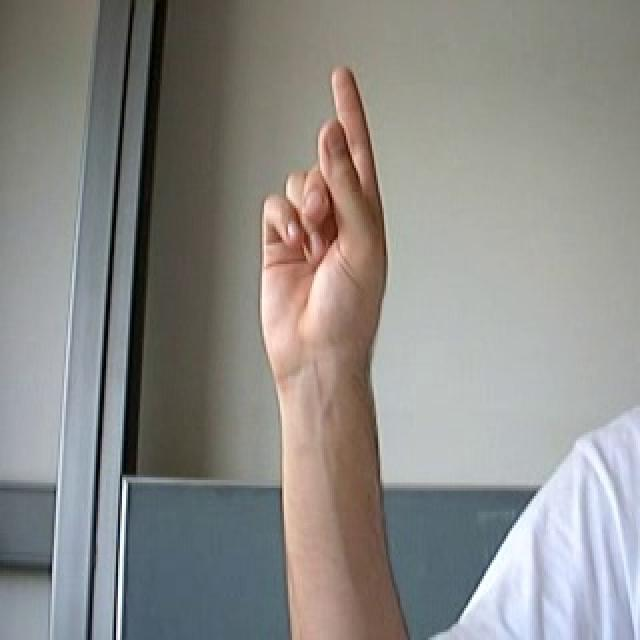K: (215, 53, 434, 420)
